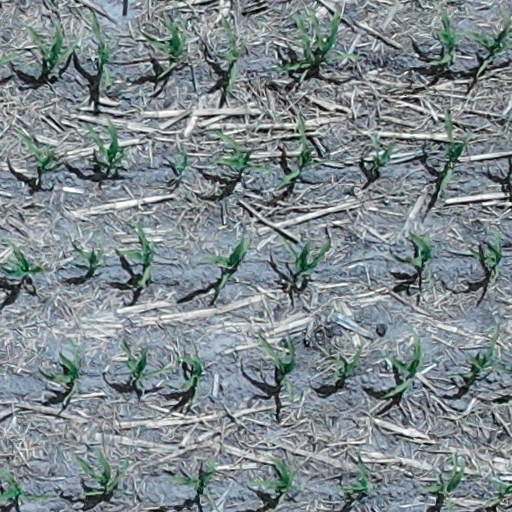planta: (273, 112, 340, 189), (305, 5, 363, 64), (448, 323, 511, 377), (464, 10, 511, 76), (165, 454, 218, 511), (122, 337, 173, 395), (200, 235, 251, 292), (256, 333, 296, 403), (438, 110, 473, 188), (71, 449, 130, 495), (210, 131, 273, 173), (210, 12, 243, 92), (37, 341, 82, 399), (271, 11, 314, 71), (24, 22, 80, 67), (118, 219, 154, 287), (249, 458, 296, 509), (385, 337, 423, 396), (414, 452, 465, 495), (16, 129, 63, 173), (143, 16, 188, 61), (426, 4, 458, 66), (89, 10, 115, 86), (85, 121, 127, 167), (282, 237, 332, 274), (471, 226, 503, 281), (172, 354, 203, 404), (390, 233, 432, 267), (337, 455, 372, 494), (69, 235, 105, 270), (328, 345, 362, 381), (370, 133, 397, 166), (486, 477, 511, 506), (164, 142, 188, 171)
